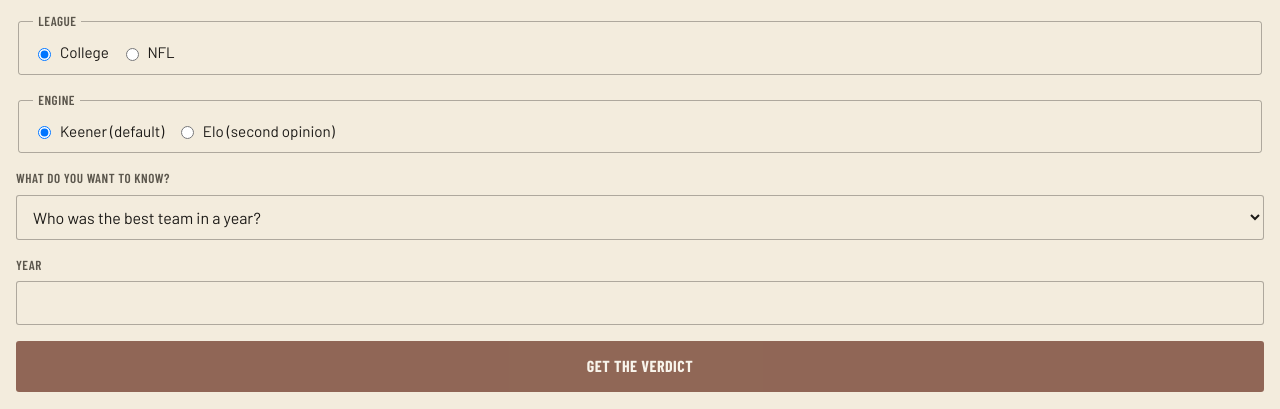
Test: QuestionForm › catalog-backed year suggestions › does not block a typed year while the catalog fetch is still in flight
This screenshot has width=1280, height=409.
Expected: the button "Get the verdict" is disabled, [16,341,1264,392]
Step 1. Type "2005" into the number field labelled "Year" → (640, 303), box [16,281,1264,325]
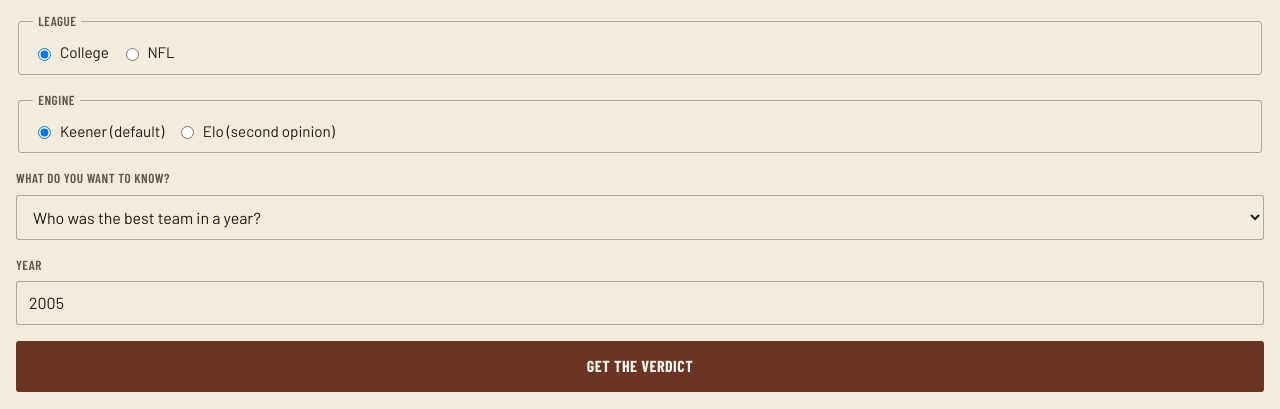
Expected: the button "Get the verdict" is enabled, [16,341,1264,392]
